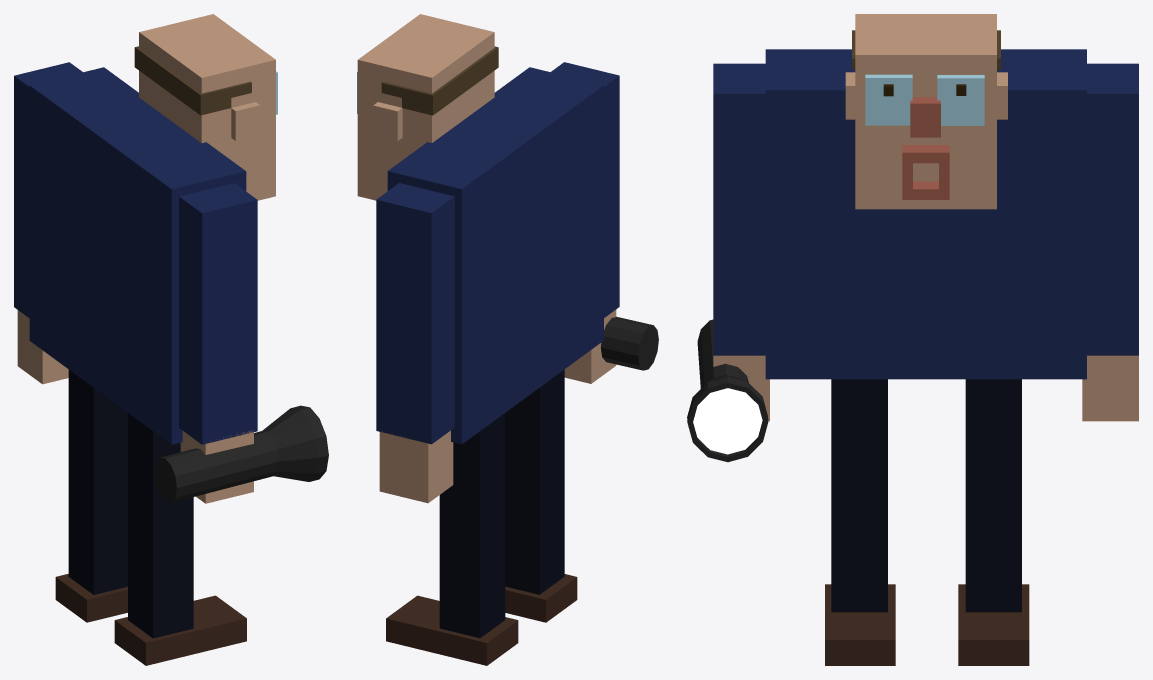
The model's file is Man.glb.
3 renders of one model, left to right at view 1: azimuth 30°, elevation 25°; view 2: azimuth 150°, elevation 25°; view 3: azimuth 270°, elevation 25°, orthographic. The views are drawn at different scales.
Visible parts, largest first — view 1: Cube.001, Cube.004, Cube, Cube.007, Cube.006, Cylinder, Cube.009, Cube.002, Cube.019, Cube.008, Cube.003, Cube.005 (+1 smaller); view 2: Cube.001, Cube.002, Cube, Cube.007, Cube.006, Cube.008, Cube.004, Cube.003, Cube.019, Cylinder, Cube.009, Cube.005 (+1 smaller); view 3: Cube.001, Cube, Cube.004, Cube.002, Cube.006, Cube.007, Cylinder, Cube.008, Cube.009, Cube.003, Cube.011, Cube.012 (+3 smaller).
Part boxes in pixels (x1,y1,x2,y2): Cube.001: (29,67,246,444); Cube.004: (179,183,257,444); Cube: (139,14,275,200); Cube.007: (68,369,127,594); Cube.006: (128,413,193,638); Cylinder: (154,405,328,502); Cube.009: (114,595,246,665); Cube.002: (14,62,82,318); Cube.019: (134,46,251,115); Cube.008: (55,574,127,622); Cube.003: (17,310,68,384); Cube.005: (180,430,253,503); Cube.001: (387,67,603,444); Cube.002: (376,183,454,444); Cube: (357,14,494,200); Cube.007: (439,413,505,638); Cube.006: (505,369,564,594); Cube.008: (386,595,518,665); Cube.004: (551,62,619,317); Cube.003: (379,430,453,503); Cube.019: (381,46,498,115); Cylinder: (600,316,658,370); Cube.009: (505,574,577,622); Cube.005: (564,309,616,383); Cube.001: (765,49,1086,379); Cube: (855,14,996,209); Cube.004: (713,63,765,355); Cube.002: (1087,63,1138,355); Cube.006: (831,379,887,612); Cube.007: (965,379,1021,612); Cylinder: (687,319,768,462); Cube.008: (958,584,1029,665); Cube.009: (825,584,895,665); Cube.003: (1082,355,1138,421); Cube.011: (865,74,912,125); Cube.012: (937,75,984,125).
Bounding box in the file's own units: 3.61 × 10.5 × 6.78.
